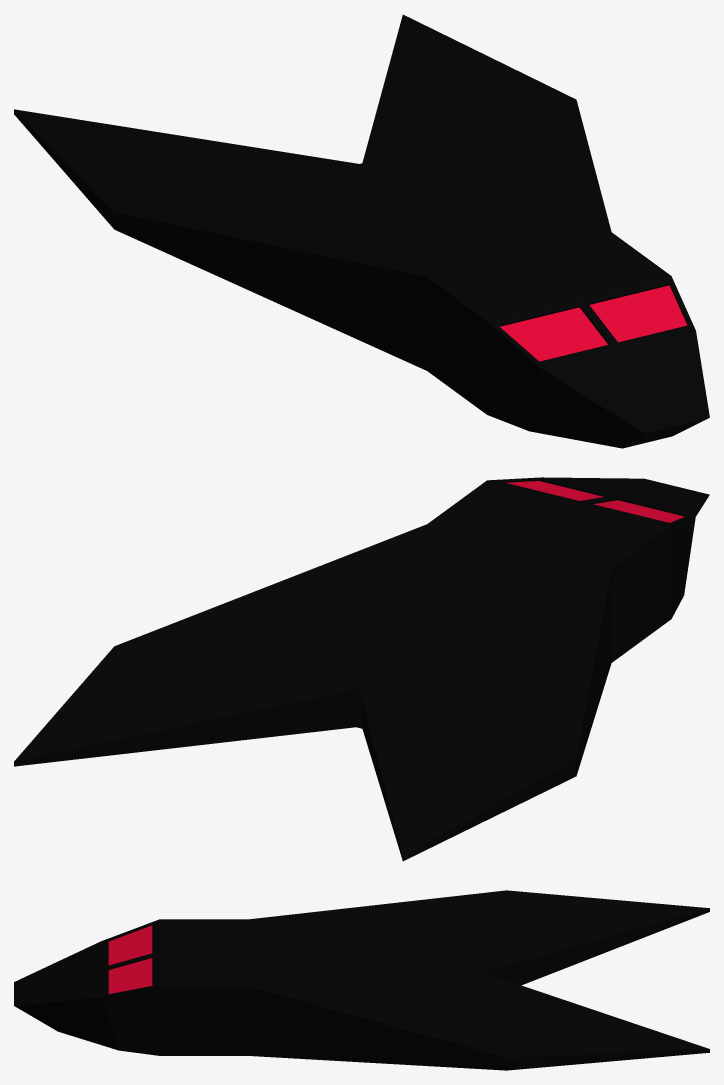
File: BlackFighter.fbx
The picture shows the model from 3 angles, top to bottom: view 1: azimuth 30°, elevation 25°; view 2: azimuth 150°, elevation 25°; view 3: azimuth 270°, elevation 25°; orthographic projection. The views are drawn at different scales.
Visible parts, largest first — view 1: Cube; view 2: Cube; view 3: Cube.
Part boxes in pixels (left/top/right/bottom): Cube: left=14, top=14, right=709, bottom=448; Cube: left=14, top=477, right=709, bottom=861; Cube: left=14, top=890, right=709, bottom=1070.
Size of the model in its own units: 4.31 by 0.837 by 7.57.
